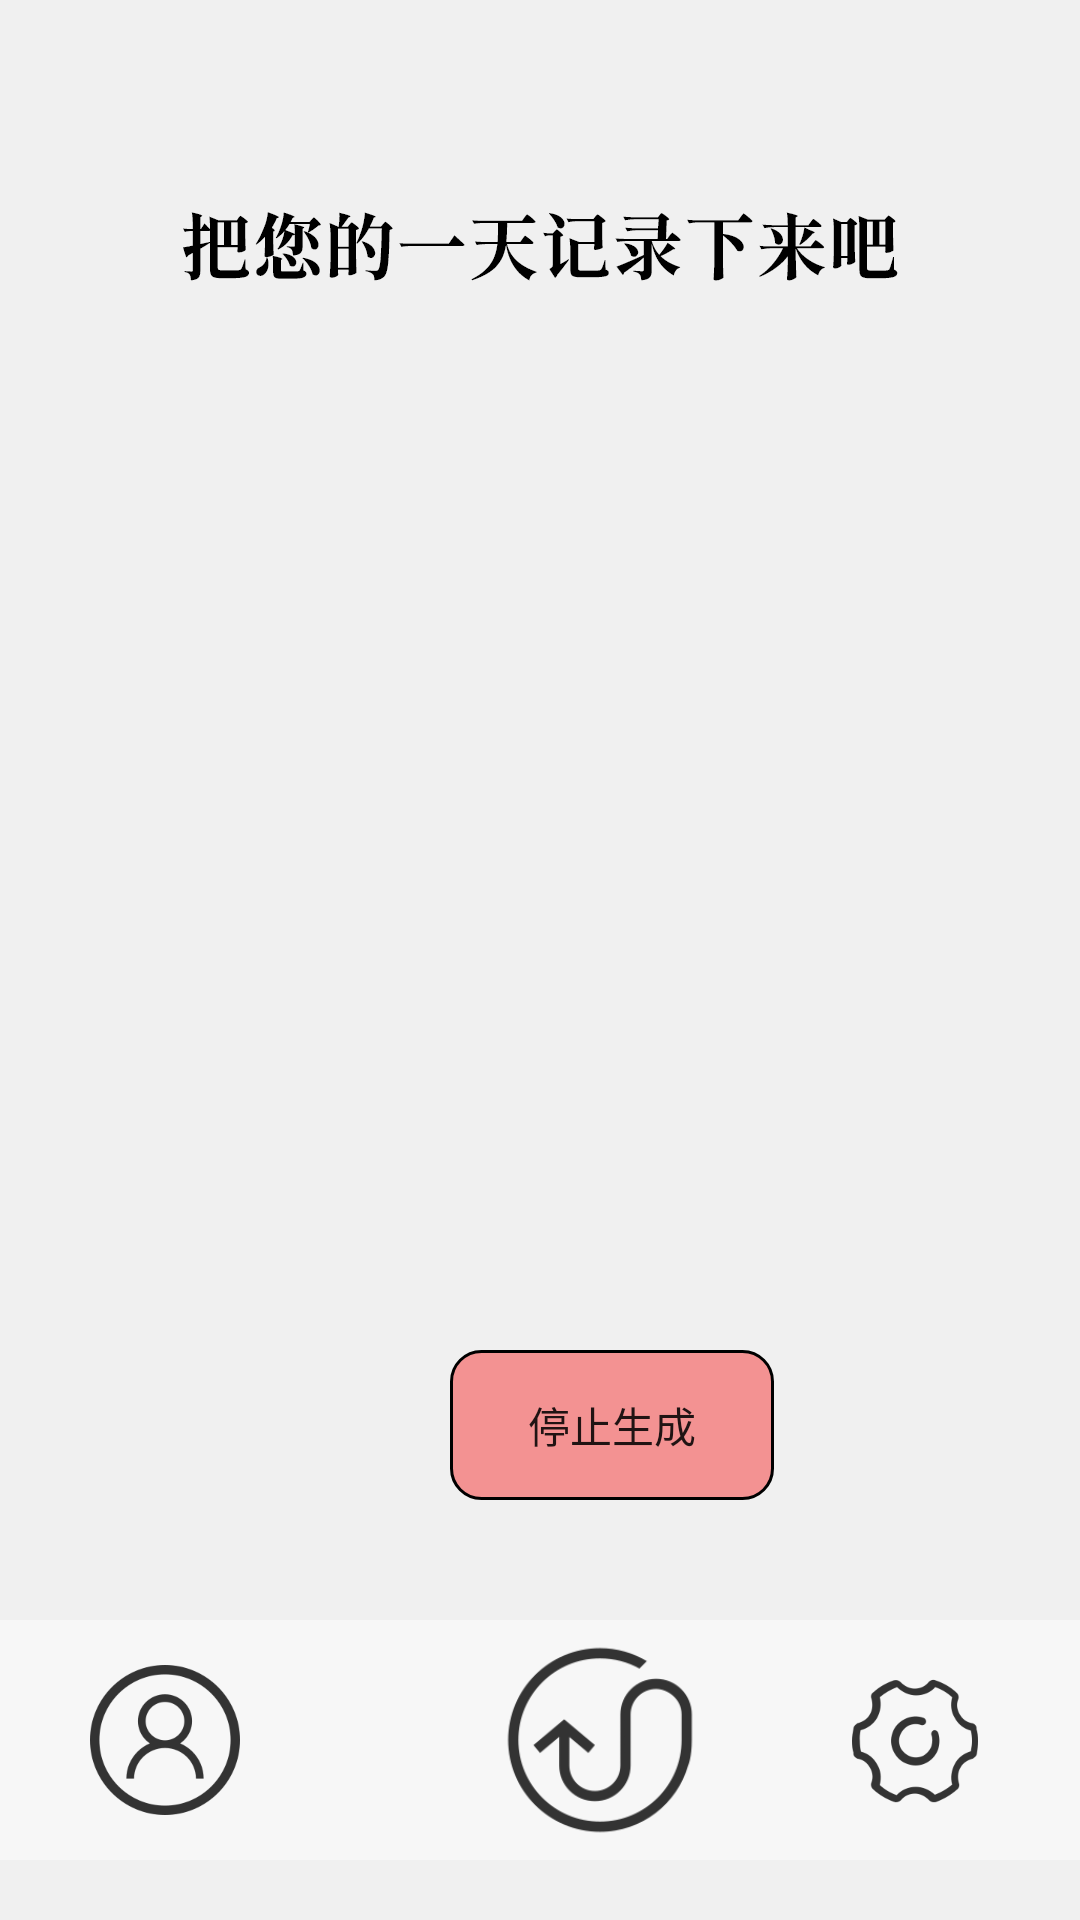

Named icons in this screenshot (1080px x 1920px) and their bounding boxes, {"left": x1, "top": y1, "right": x2, "bottom": y2}:
geren: {"left": 90, "top": 1665, "right": 240, "bottom": 1815}
luxian: {"left": 507, "top": 1647, "right": 693, "bottom": 1833}
shezhi: {"left": 852, "top": 1680, "right": 978, "bottom": 1803}
